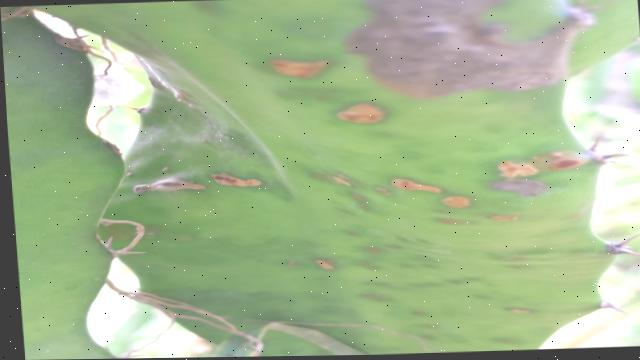stemcanker: (267, 53, 335, 88), (329, 98, 396, 132), (530, 143, 593, 175), (384, 170, 450, 197), (206, 168, 271, 193), (490, 156, 542, 182), (436, 191, 472, 214), (306, 254, 341, 274)
